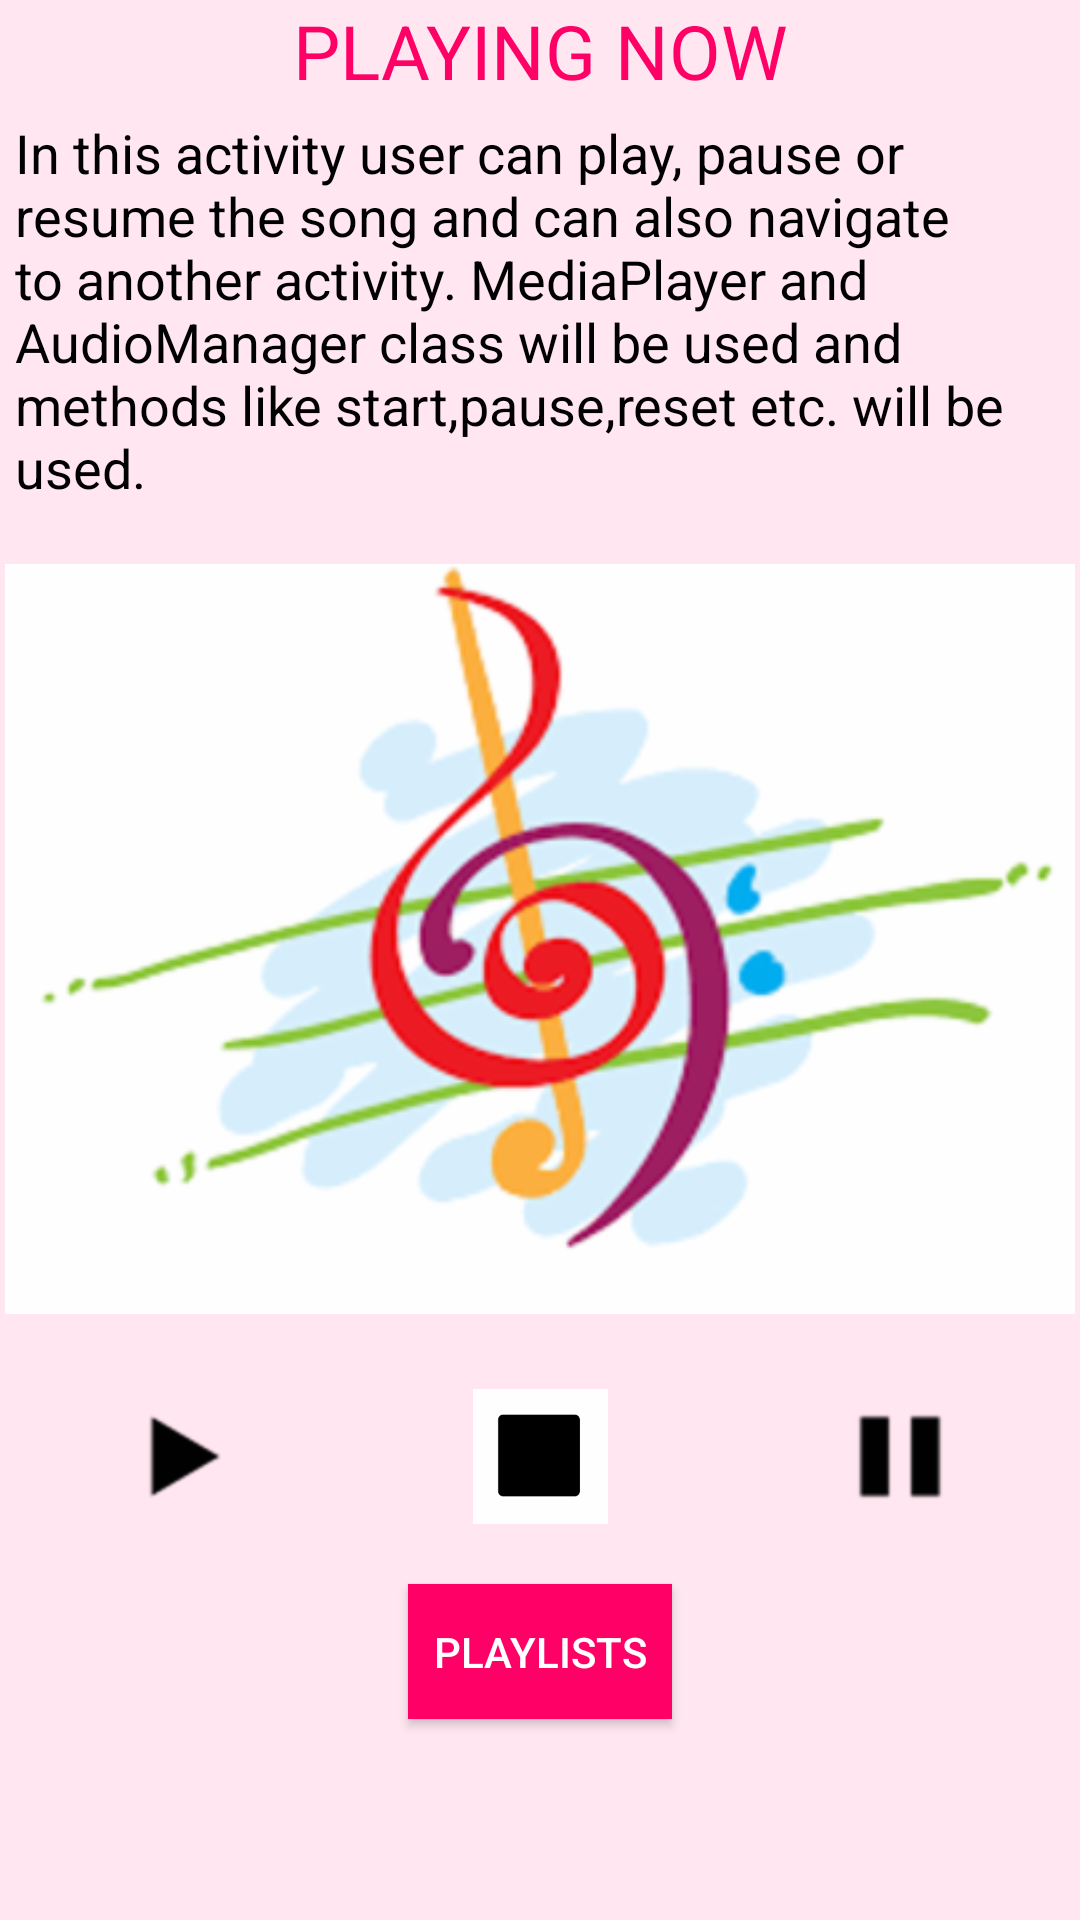

Named icons in this screenshot (1080 × 1920) and their centers, (x,y):
pause: (900,1456)
stop: (540,1456)
